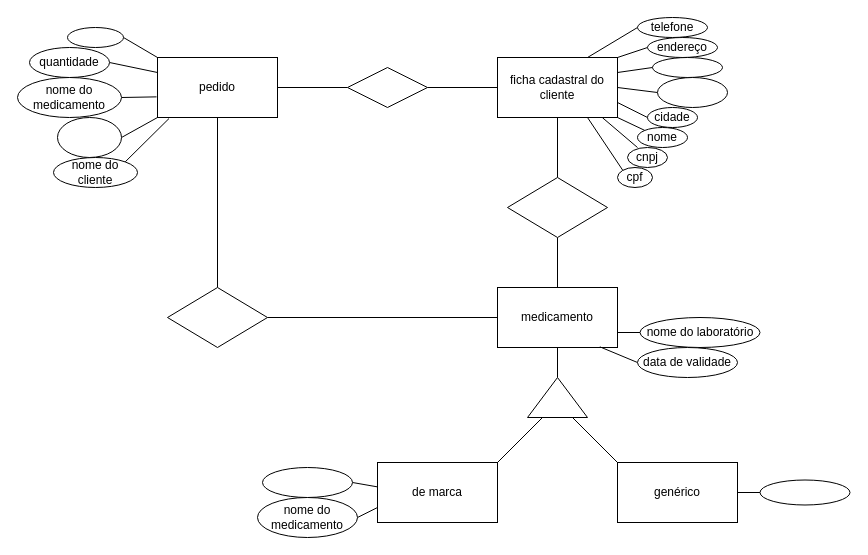
This 868x555 diagram has some shape labels left out. Each missing label, with the box of its shape:
cor da tarja: (262, 466, 352, 498)
data do pedido: (56, 116, 122, 158)
estado: (652, 56, 722, 78)
finaliza a solicitação: (166, 286, 268, 348)
inicia a solicitação: (506, 176, 608, 238)
paga: (346, 66, 428, 108)
pessoa contato: (656, 76, 728, 108)
preço: (66, 26, 124, 48)
principio ativo: (759, 479, 850, 505)
